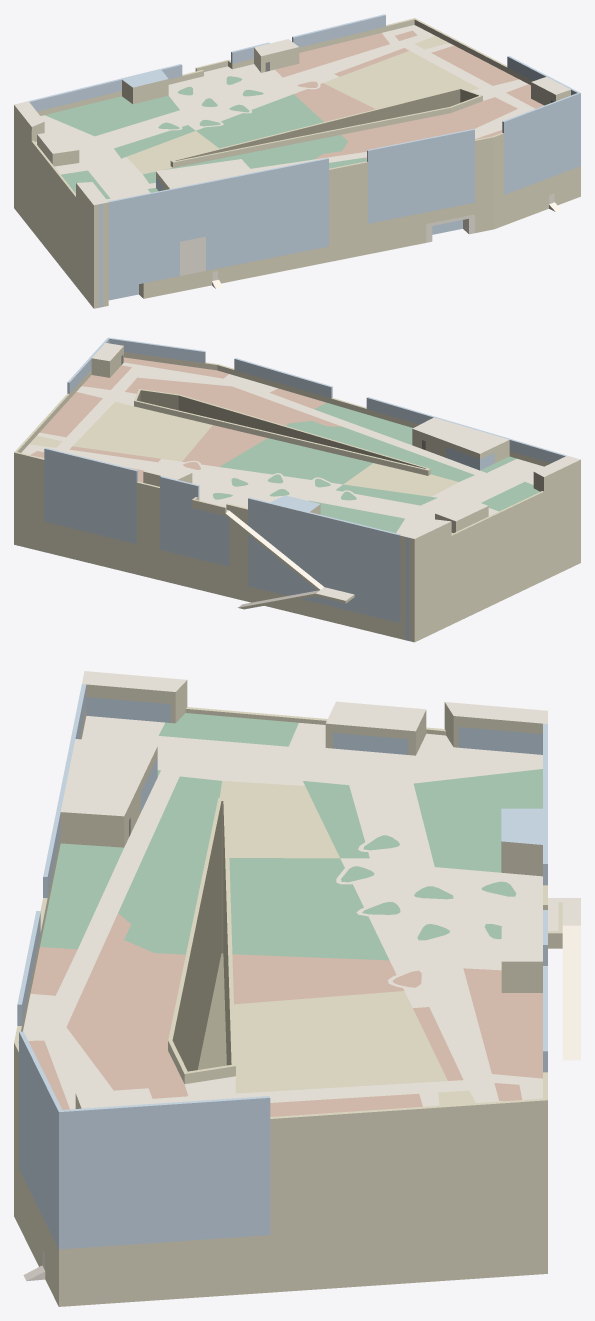
3 renders of one model, top to bottom at view 1: azimuth 30°, elevation 25°; view 2: azimuth 150°, elevation 25°; view 3: azimuth 270°, elevation 25°, orthographic. The views are drawn at different scales.
Visible parts, largest first — view 1: 70030076201574217lod; view 2: 70030076201574217lod; view 3: 70030076201574217lod.
Boxes of the visible parts, x1,y1,x2,y2 form: 70030076201574217lod: (14,14,580,308); 70030076201574217lod: (14,337,580,642); 70030076201574217lod: (14,671,580,1306).
Size of the model in its own units: 112 by 22.97 by 60.59.
1 material, 1 textured.
